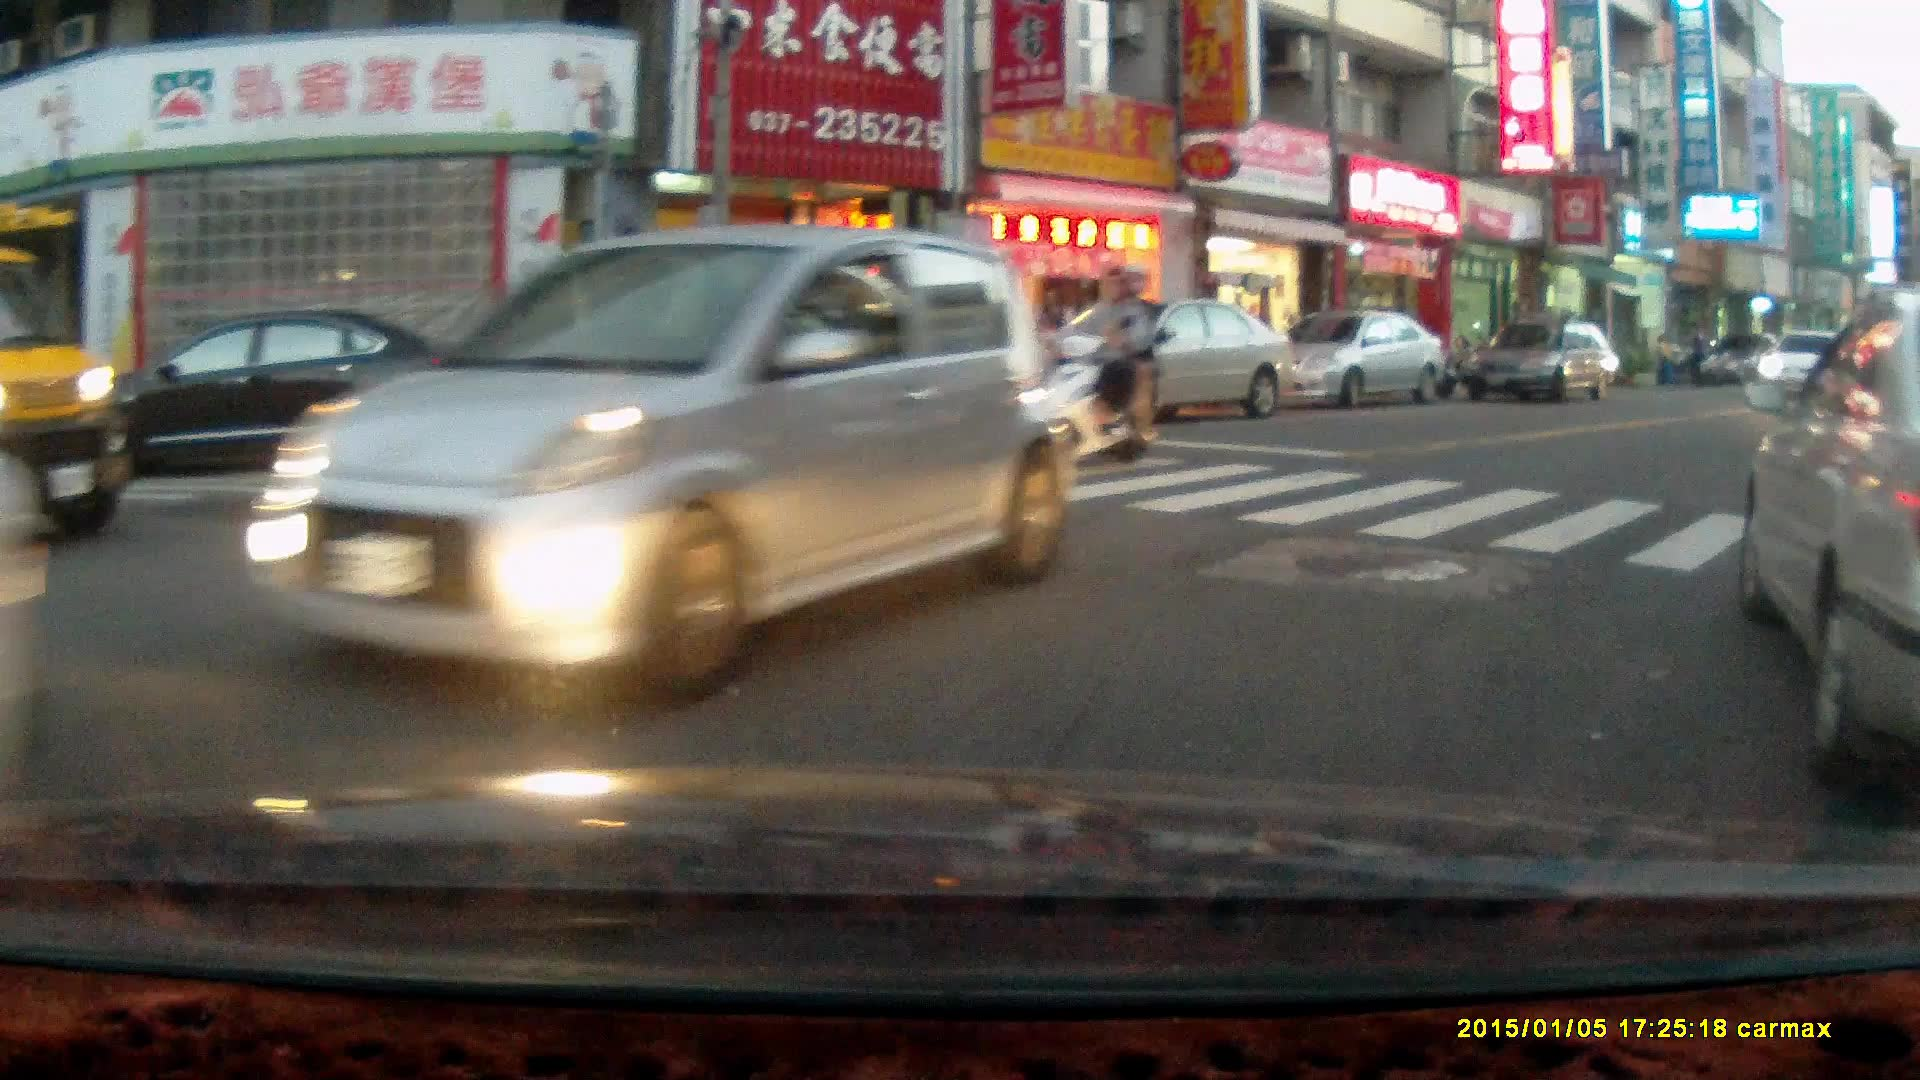pedestrian: (1031, 279, 1077, 422)
rider: (1007, 259, 1158, 461)
vehicle: (243, 223, 1049, 707), (1734, 296, 1920, 781), (102, 304, 474, 470), (1080, 295, 1303, 419), (1265, 307, 1451, 402), (1459, 317, 1627, 405)
